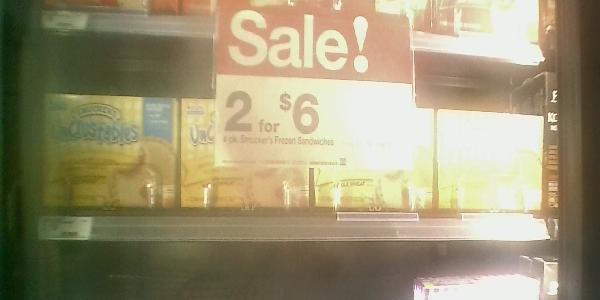icecream: (43, 86, 182, 215), (179, 96, 317, 214), (316, 98, 437, 214), (435, 104, 542, 212)
